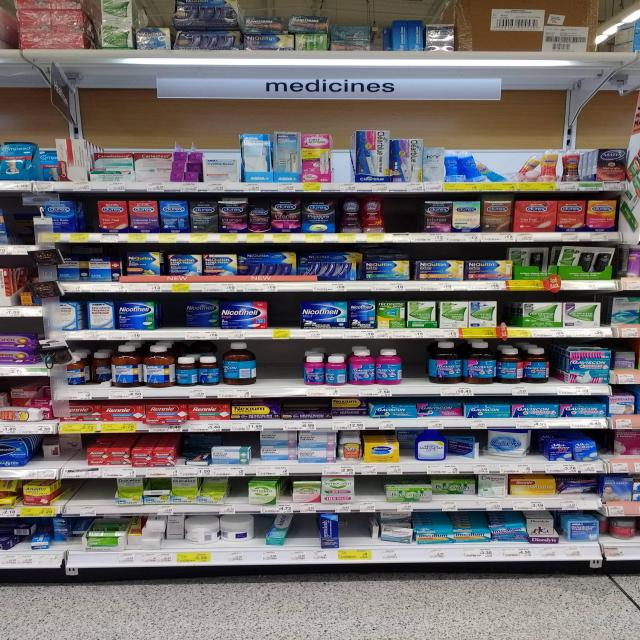empty: (259, 342, 304, 386), (386, 200, 424, 233), (63, 480, 114, 503), (332, 131, 352, 185), (402, 341, 426, 385), (270, 299, 303, 328), (340, 514, 371, 544), (293, 515, 318, 547), (159, 300, 186, 329), (497, 299, 522, 327), (79, 199, 98, 231)
